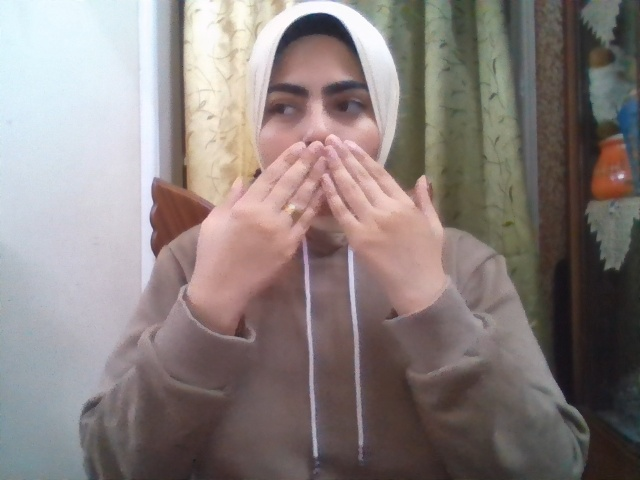thanks: (193, 135, 448, 291)
